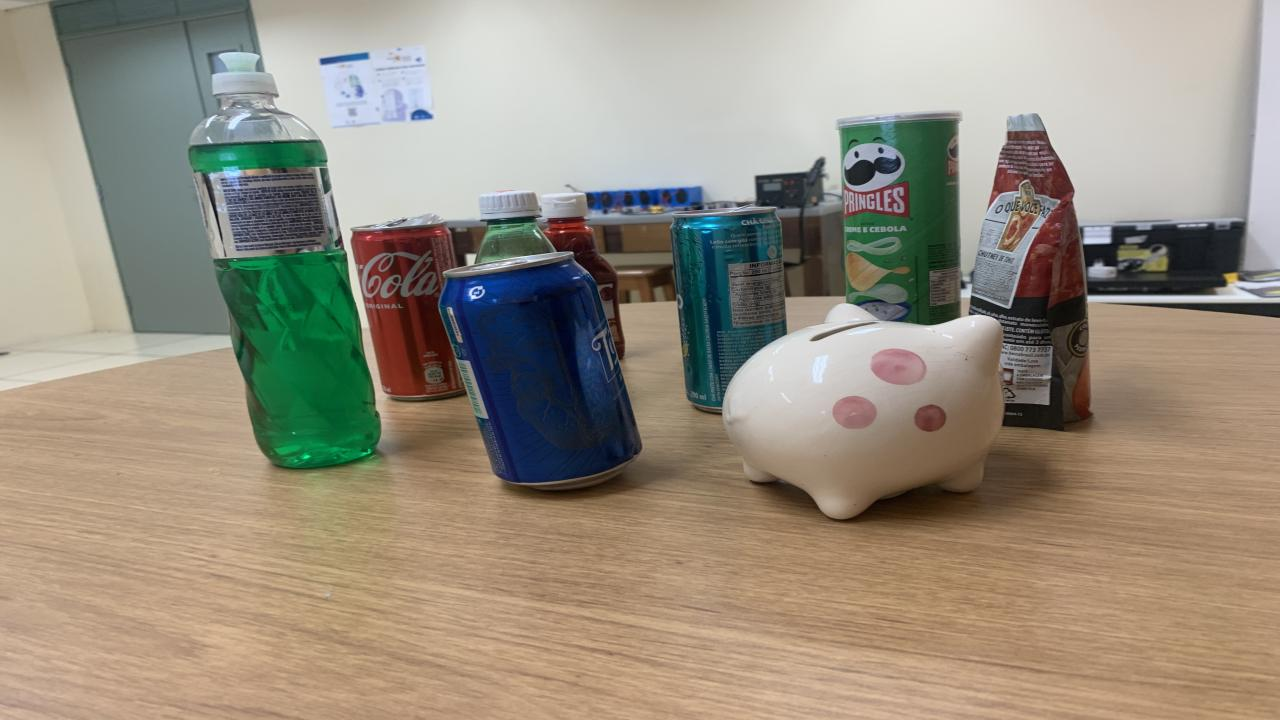Coke-Drinks: (350, 214, 462, 401)
Detergent-Cleanup_Items: (190, 54, 380, 467)
Guarana-Drinks: (475, 189, 555, 264)
Ketchup-Pantry_Items: (722, 304, 1002, 519), (540, 193, 625, 358)
Pig_Safe-Miscellaneous: (722, 304, 1002, 519)
Pringles-Snacks: (838, 112, 960, 324)
Tea-Drinks: (670, 206, 788, 411)
Tomato_Sauce-Pantry_Items: (970, 114, 1092, 429)
Tonic-Drinks: (440, 251, 642, 489)
